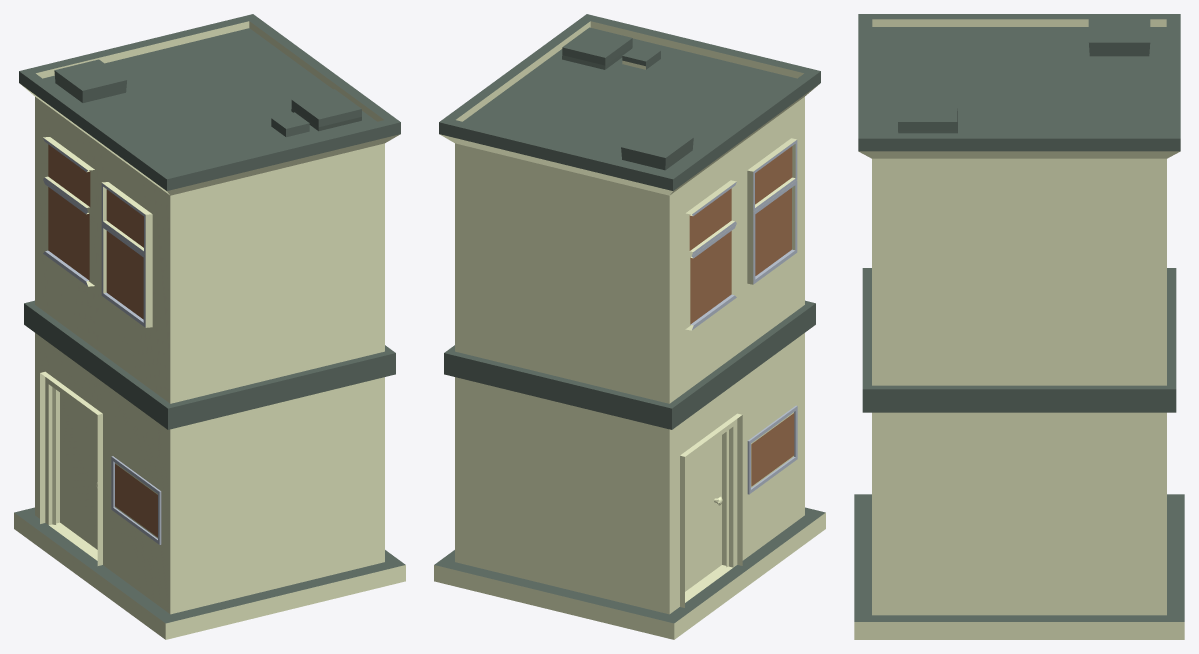
Rendered from building.fbx.
3 views of the same model, side by side, from view 1: azimuth 30°, elevation 25°; view 2: azimuth 150°, elevation 25°; view 3: azimuth 270°, elevation 25° (orthographic). The views are drawn at different scales.
Visible parts, largest first — view 1: Cube; view 2: Cube; view 3: Cube.
Part boxes in pixels (bbox=[...]): Cube: bbox=[14, 14, 405, 639]; Cube: bbox=[434, 14, 825, 639]; Cube: bbox=[854, 14, 1184, 639].
Bounding box in the file's own units: 644 × 1190 × 704.
